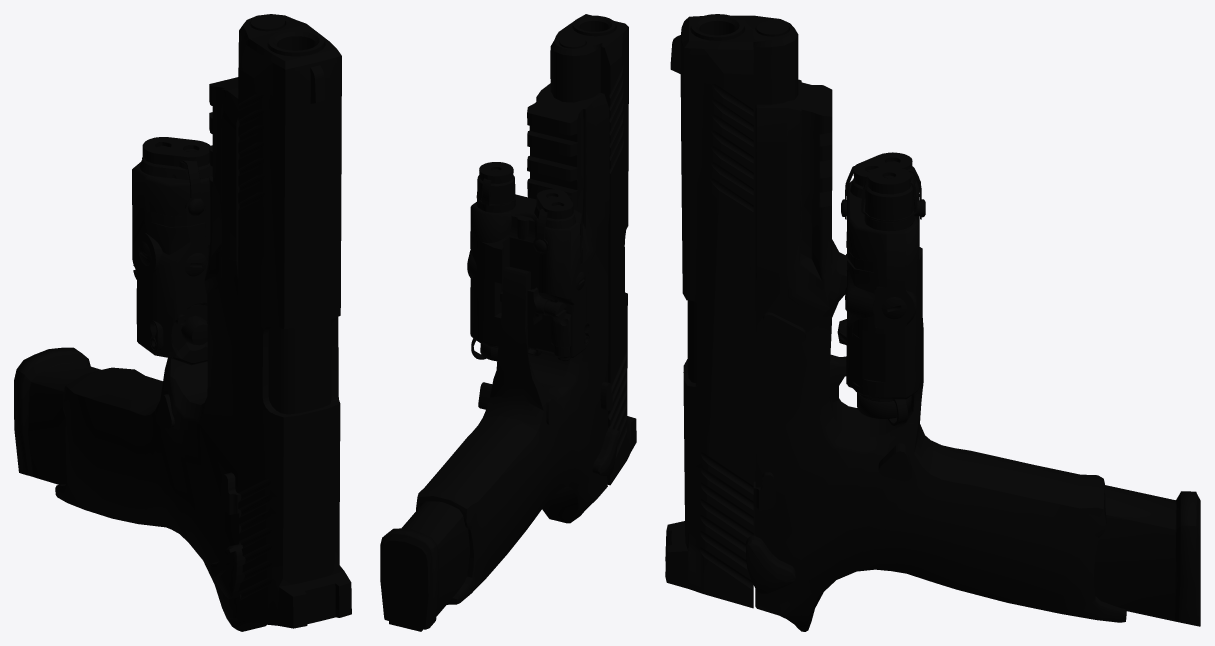
The model's file is SIG_M17__Laser_Rifle.fbx.
The picture shows the model from 3 angles, left to right: view 1: azimuth 30°, elevation 25°; view 2: azimuth 150°, elevation 25°; view 3: azimuth 270°, elevation 25°; orthographic projection. The views are drawn at different scales.
Visible parts, largest first — view 1: asset_SIG_M17.001; view 2: asset_SIG_M17.001; view 3: asset_SIG_M17.001.
Boxes of the visible parts, <box> form: asset_SIG_M17.001: <box>14,14,351,631</box>; asset_SIG_M17.001: <box>380,14,636,631</box>; asset_SIG_M17.001: <box>665,14,1200,631</box>.
Bounding box in the file's own units: 0.0289 × 0.1254 × 0.1014.
